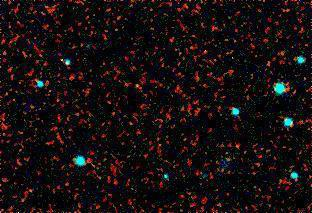star: (121, 71, 151, 101)
